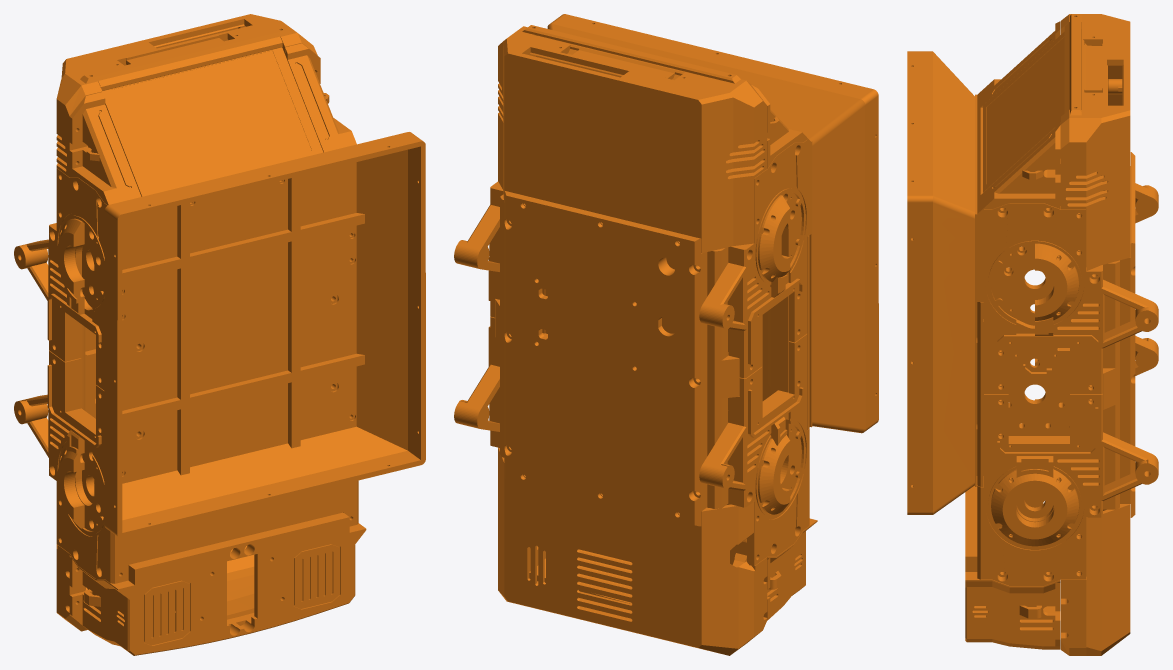
The model's file is body.obj.
The picture shows the model from 3 angles, left to right: view 1: azimuth 30°, elevation 25°; view 2: azimuth 150°, elevation 25°; view 3: azimuth 270°, elevation 25°; orthographic projection. The views are drawn at different scales.
Visible parts, largest first — view 1: \u9876\u677f, \u524d\u56f4\u6321-\u4e0a\u4fa7, HDMI-5inch-D, \u52a8\u529b\u7bb1\u4fa7\u6321\u677f-\u53f3\u524d, \u52a8\u529b\u7bb1\u4fa7\u6321\u677f-\u53f3\u540e, \u540e\u56f4\u6321-\u4e0a\u4fa7, \u524d\u56f4\u6321\u4e0a\u76d6\u677f, \u540e\u56f4\u6321-\u4e0b\u4fa7, \u6db2\u6676\u5c4f\u56fa\u5b9a\u538b\u677f, \u524d\u56f4\u6321-\u4e0b\u4fa7, \u5927\u817f\u8f6c\u8f74\u88c5\u9970\u5708-\u53f3\u540e\u4e0b, \u5927\u817f\u8f6c\u8f74\u88c5\u9970\u5708-\u53f3\u524d\u4e0b (+1 smaller); view 2: \u5e95\u677f, \u540e\u56f4\u6321-\u4e0b\u4fa7, \u524d\u56f4\u6321-\u4e0b\u4fa7, \u9876\u677f, \u52a8\u529b\u7bb1\u4fa7\u6321\u677f-\u53f3\u524d, \u52a8\u529b\u7bb1\u4fa7\u6321\u677f-\u53f3\u540e, \u4fa7\u677f\u5e95\u90e8\u6a2a\u6881-\u53f3\u4fa7, \u524d\u56f4\u6321-\u4e0a\u4fa7, \u52a8\u529b\u7bb1\u4fa7\u6321\u677f-\u5de6\u540e, \u52a8\u529b\u7bb1\u4fa7\u6321\u677f-\u5de6\u524d, \u4fa7\u677f\u9876\u90e8\u6a2a\u6881-\u53f3\u4fa7, \u5927\u817f\u8f6c\u8f74\u88c5\u9970\u5708-\u53f3\u540e\u4e0b (+4 smaller); view 3: \u9876\u677f, \u52a8\u529b\u7bb1\u4fa7\u6321\u677f-\u5de6\u540e, \u52a8\u529b\u7bb1\u4fa7\u6321\u677f-\u5de6\u524d, \u540e\u56f4\u6321-\u4e0b\u4fa7, \u524d\u56f4\u6321-\u4e0b\u4fa7, \u524d\u56f4\u6321-\u4e0a\u4fa7, HDMI-5inch-D, \u52a8\u529b\u7bb1\u4fa7\u6321\u677f-\u53f3\u524d, \u540e\u56f4\u6321-\u4e0a\u4fa7, \u5e95\u677f, \u4fa7\u677f\u5e95\u90e8\u6a2a\u6881-\u5de6\u4fa7, \u5927\u817f\u8f6c\u8f74\u88c5\u9970\u5708-\u5de6\u540e\u4e0b (+6 smaller).
Part boxes in pixels (x1=…): \u9876\u677f: x1=104, y1=132, x2=425, y2=538; \u524d\u56f4\u6321-\u4e0a\u4fa7: x1=69, y1=512, x2=366, y2=655; HDMI-5inch-D: x1=102, y1=47, x2=323, y2=196; \u52a8\u529b\u7bb1\u4fa7\u6321\u677f-\u53f3\u524d: x1=14, y1=350, x2=108, y2=581; \u52a8\u529b\u7bb1\u4fa7\u6321\u677f-\u53f3\u540e: x1=14, y1=168, x2=107, y2=390; \u540e\u56f4\u6321-\u4e0a\u4fa7: x1=69, y1=43, x2=356, y2=205; \u524d\u56f4\u6321\u4e0a\u76d6\u677f: x1=108, y1=480, x2=358, y2=583; \u540e\u56f4\u6321-\u4e0b\u4fa7: x1=56, y1=14, x2=317, y2=176; \u6db2\u6676\u5c4f\u56fa\u5b9a\u538b\u677f: x1=80, y1=27, x2=291, y2=90; \u524d\u56f4\u6321-\u4e0b\u4fa7: x1=56, y1=454, x2=254, y2=631; \u5927\u817f\u8f6c\u8f74\u88c5\u9970\u5708-\u53f3\u540e\u4e0b: x1=57, y1=218, x2=84, y2=314; \u5927\u817f\u8f6c\u8f74\u88c5\u9970\u5708-\u53f3\u524d\u4e0b: x1=57, y1=430, x2=84, y2=528; \u5e95\u677f: x1=504, y1=190, x2=707, y2=526; \u540e\u56f4\u6321-\u4e0b\u4fa7: x1=498, y1=26, x2=767, y2=252; \u524d\u56f4\u6321-\u4e0b\u4fa7: x1=498, y1=447, x2=767, y2=655; \u9876\u677f: x1=547, y1=14, x2=878, y2=433; \u52a8\u529b\u7bb1\u4fa7\u6321\u677f-\u53f3\u524d: x1=699, y1=333, x2=807, y2=566; \u52a8\u529b\u7bb1\u4fa7\u6321\u677f-\u53f3\u540e: x1=699, y1=140, x2=807, y2=378; \u4fa7\u677f\u5e95\u90e8\u6a2a\u6881-\u53f3\u4fa7: x1=707, y1=247, x2=739, y2=508; \u524d\u56f4\u6321-\u4e0a\u4fa7: x1=529, y1=504, x2=817, y2=620; \u52a8\u529b\u7bb1\u4fa7\u6321\u677f-\u5de6\u540e: x1=454, y1=181, x2=503, y2=317; \u52a8\u529b\u7bb1\u4fa7\u6321\u677f-\u5de6\u524d: x1=454, y1=289, x2=547, y2=447; \u4fa7\u677f\u9876\u90e8\u6a2a\u6881-\u53f3\u4fa7: x1=767, y1=235, x2=809, y2=429; \u5927\u817f\u8f6c\u8f74\u88c5\u9970\u5708-\u53f3\u540e\u4e0b: x1=758, y1=195, x2=790, y2=297; \u9876\u677f: x1=907, y1=51, x2=983, y2=514; \u52a8\u529b\u7bb1\u4fa7\u6321\u677f-\u5de6\u540e: x1=984, y1=203, x2=1158, y2=394; \u52a8\u529b\u7bb1\u4fa7\u6321\u677f-\u5de6\u524d: x1=984, y1=394, x2=1158, y2=585; \u540e\u56f4\u6321-\u4e0b\u4fa7: x1=1061, y1=14, x2=1130, y2=270; \u524d\u56f4\u6321-\u4e0b\u4fa7: x1=1061, y1=426, x2=1130, y2=655; \u524d\u56f4\u6321-\u4e0a\u4fa7: x1=965, y1=476, x2=1060, y2=649; HDMI-5inch-D: x1=983, y1=29, x2=1091, y2=192; \u52a8\u529b\u7bb1\u4fa7\u6321\u677f-\u53f3\u524d: x1=1008, y1=336, x2=1158, y2=435; \u540e\u56f4\u6321-\u4e0a\u4fa7: x1=984, y1=21, x2=1060, y2=209; \u5e95\u677f: x1=1120, y1=152, x2=1135, y2=517; \u4fa7\u677f\u5e95\u90e8\u6a2a\u6881-\u5de6\u4fa7: x1=1089, y1=260, x2=1119, y2=509; \u5927\u817f\u8f6c\u8f74\u88c5\u9970\u5708-\u5de6\u540e\u4e0b: x1=1035, y1=243, x2=1078, y2=335.
Bounding box in the file's own units: 206 × 351 × 148.
